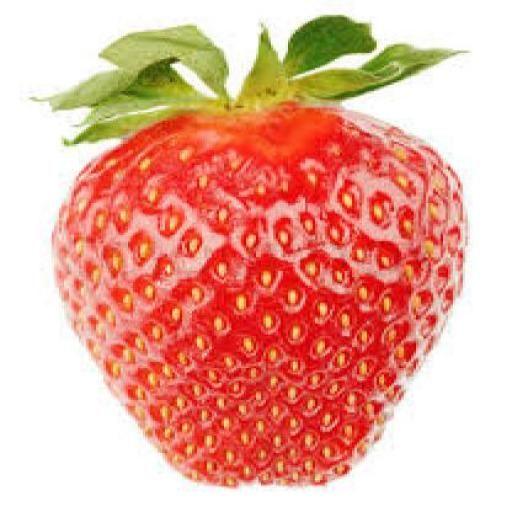biodegradable: (27, 12, 465, 489)
